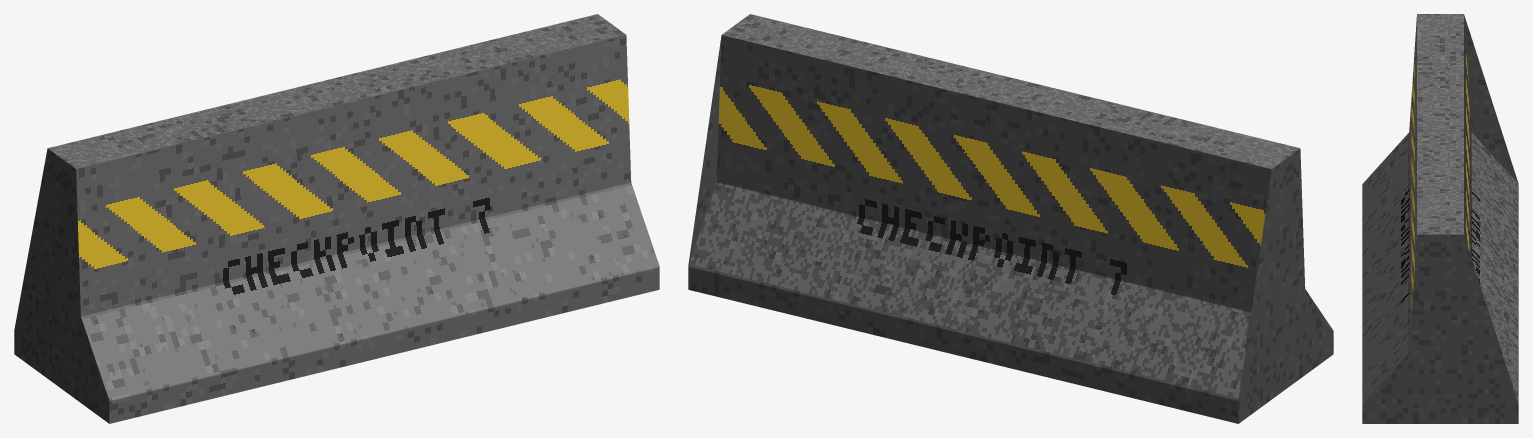
The model's file is jersey_barrier.glb.
The picture shows the model from 3 angles, left to right: view 1: azimuth 30°, elevation 25°; view 2: azimuth 150°, elevation 25°; view 3: azimuth 270°, elevation 25°; orthographic projection. The views are drawn at different scales.
Visible parts, largest first — view 1: prop; view 2: prop; view 3: prop.
Boxes of the visible parts, box(x1,y1,x2,y2) form: prop: box(14, 14, 659, 423); prop: box(688, 14, 1333, 423); prop: box(1362, 14, 1518, 423).
Size of the model in its own units: 2 by 0.8 by 0.6.
1 material, 1 textured.
